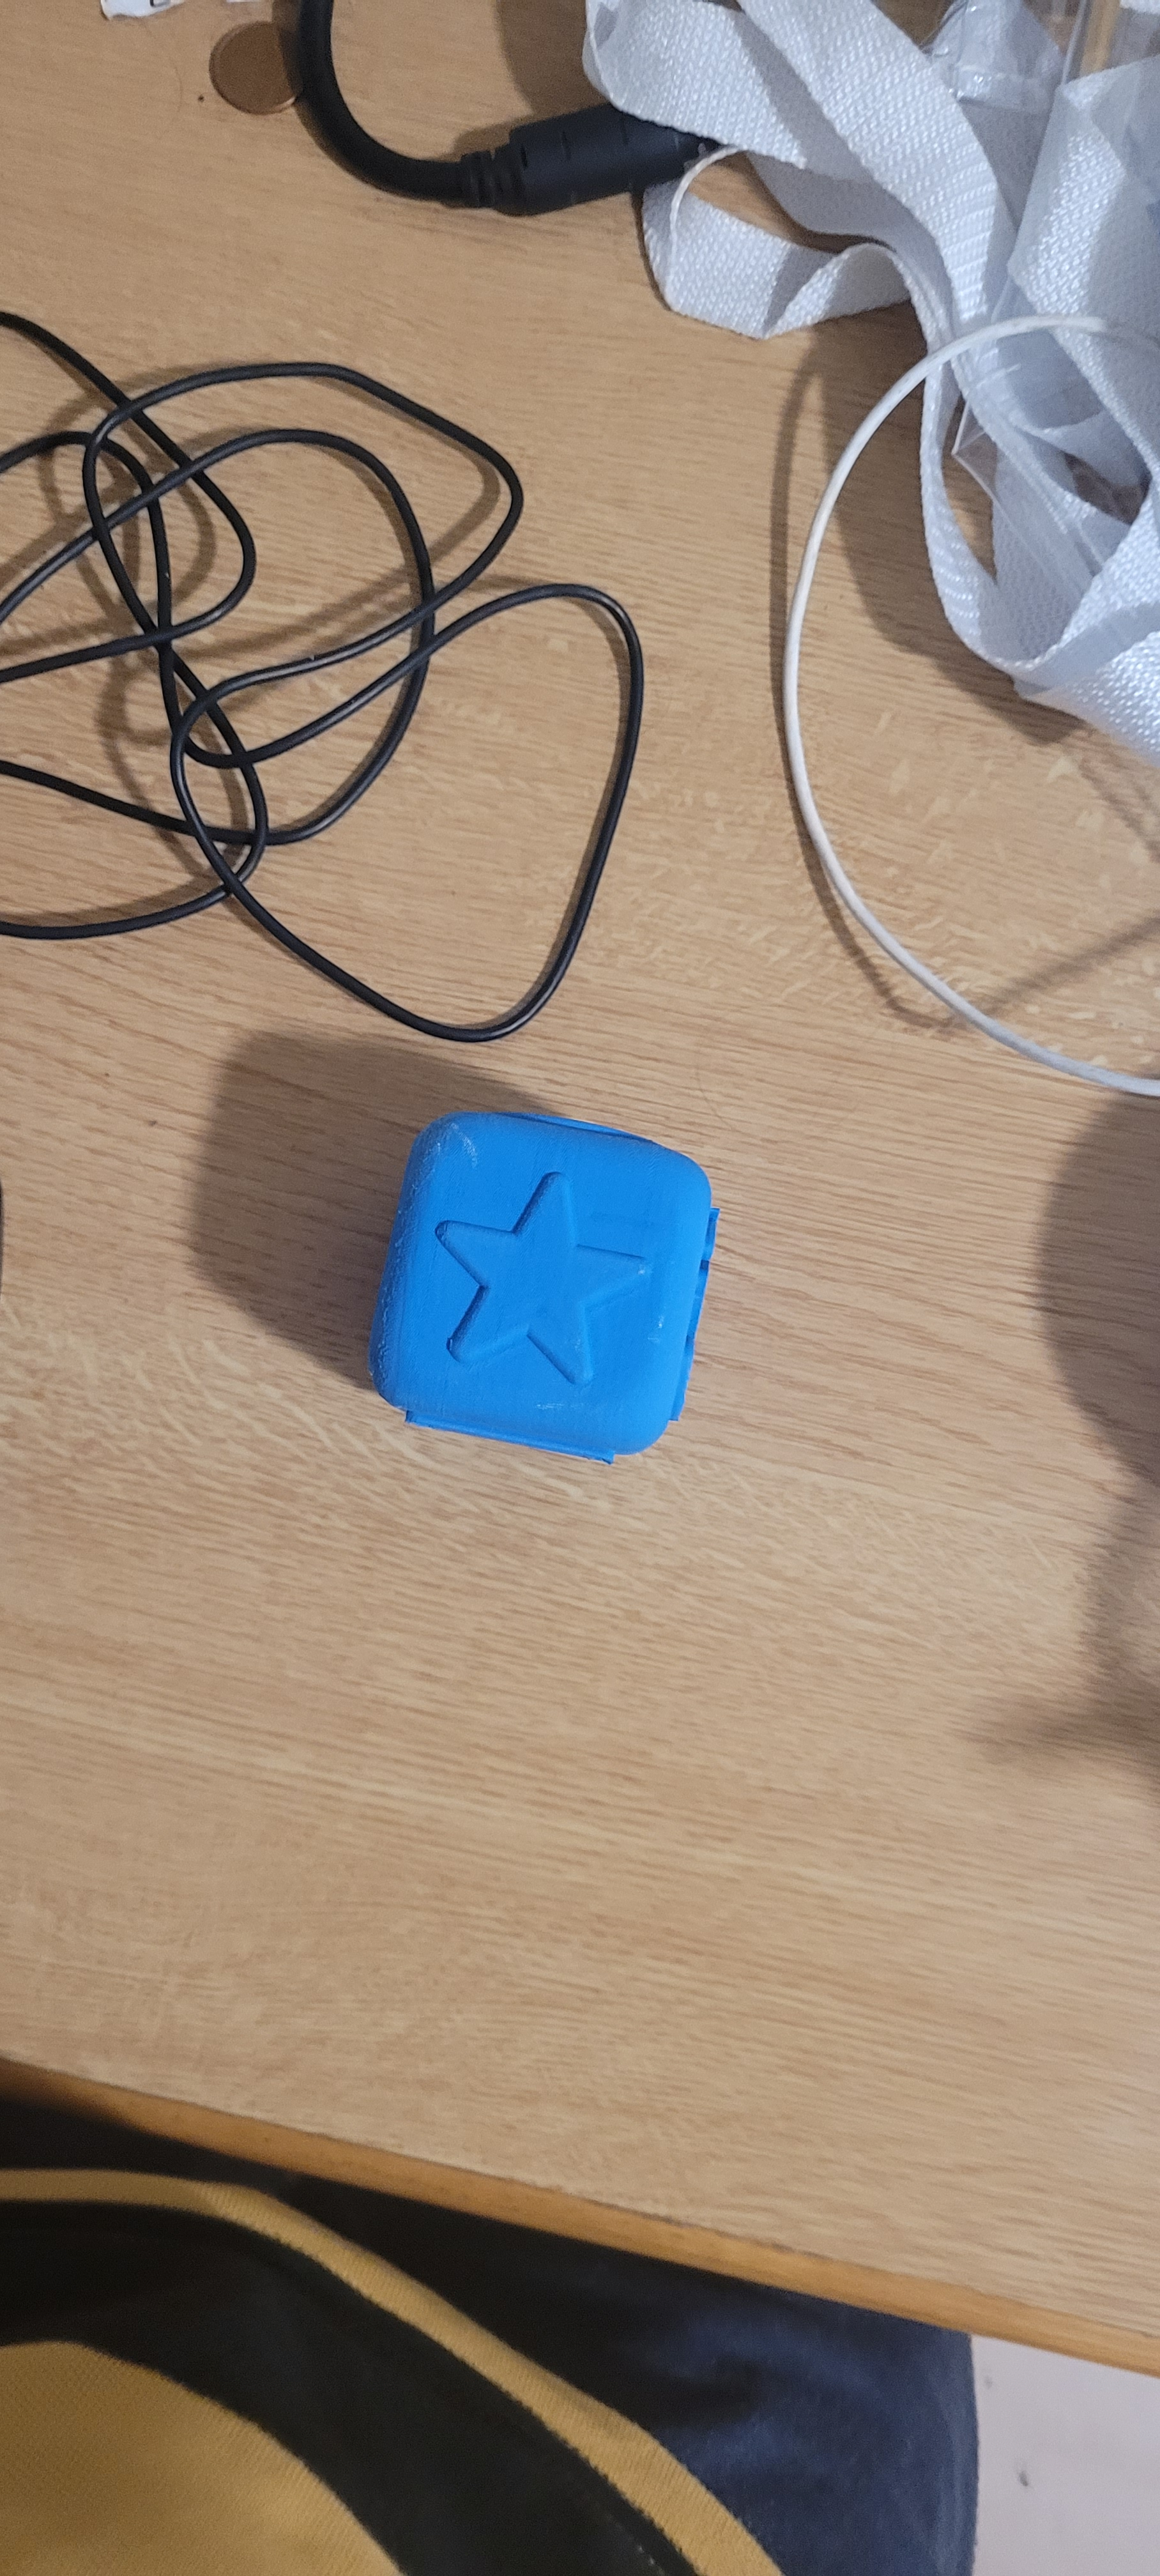Star: (437, 1132, 652, 1403)
